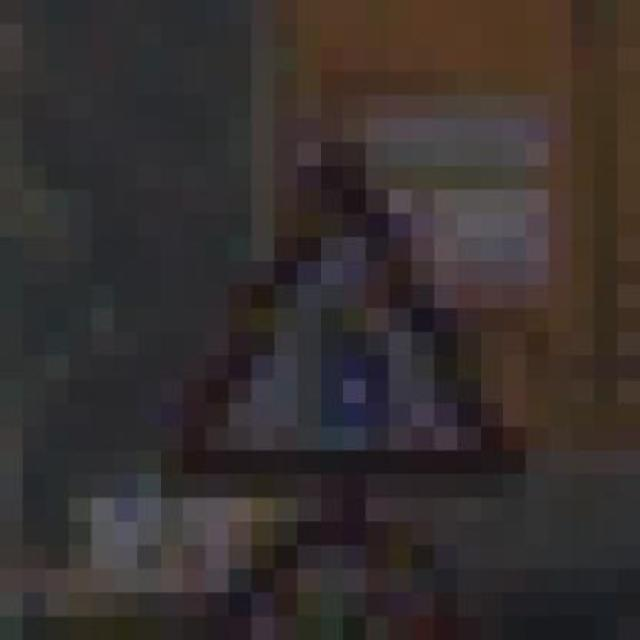-Road narrows on right: (137, 95, 549, 498)
